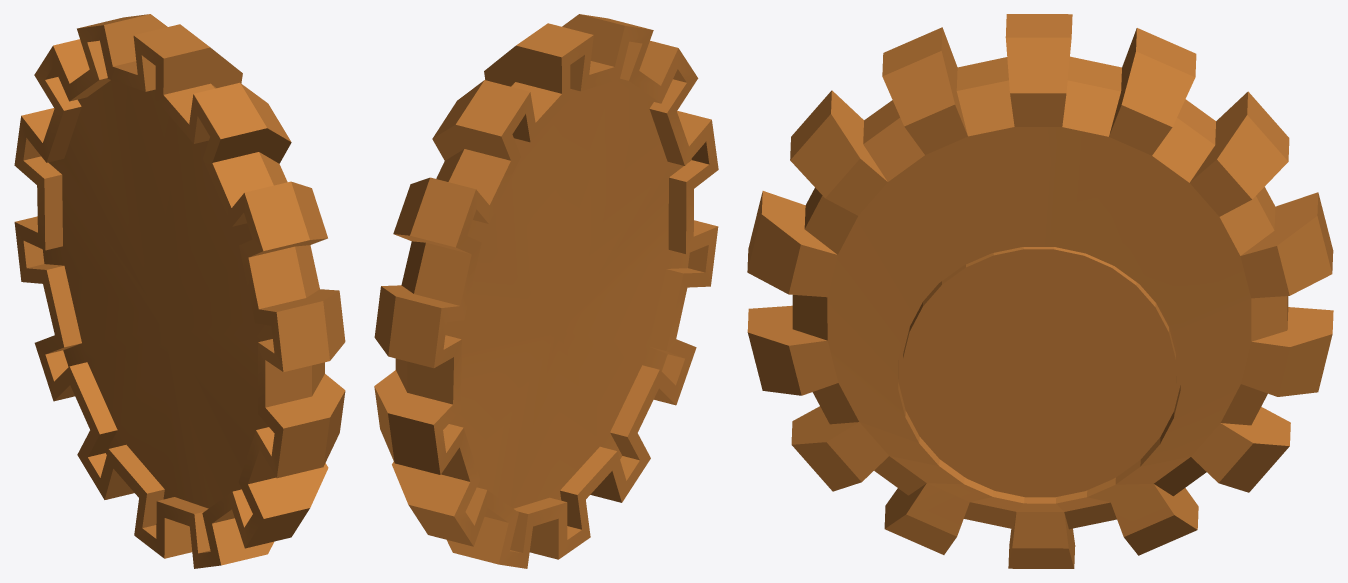
The model's file is BigGear_Door.fbx.
3 views of the same model, side by side, from view 1: azimuth 30°, elevation 25°; view 2: azimuth 150°, elevation 25°; view 3: azimuth 270°, elevation 25° (orthographic). The views are drawn at different scales.
Parts seen in each view (by area): view 1: BigGear_Door; view 2: BigGear_Door; view 3: BigGear_Door.
Part boxes in pixels (x1,y1,x2,y2): BigGear_Door: (14, 14, 345, 568); BigGear_Door: (374, 14, 718, 568); BigGear_Door: (747, 14, 1333, 568).
Size of the model in its own units: 40.45 by 221 by 221.
